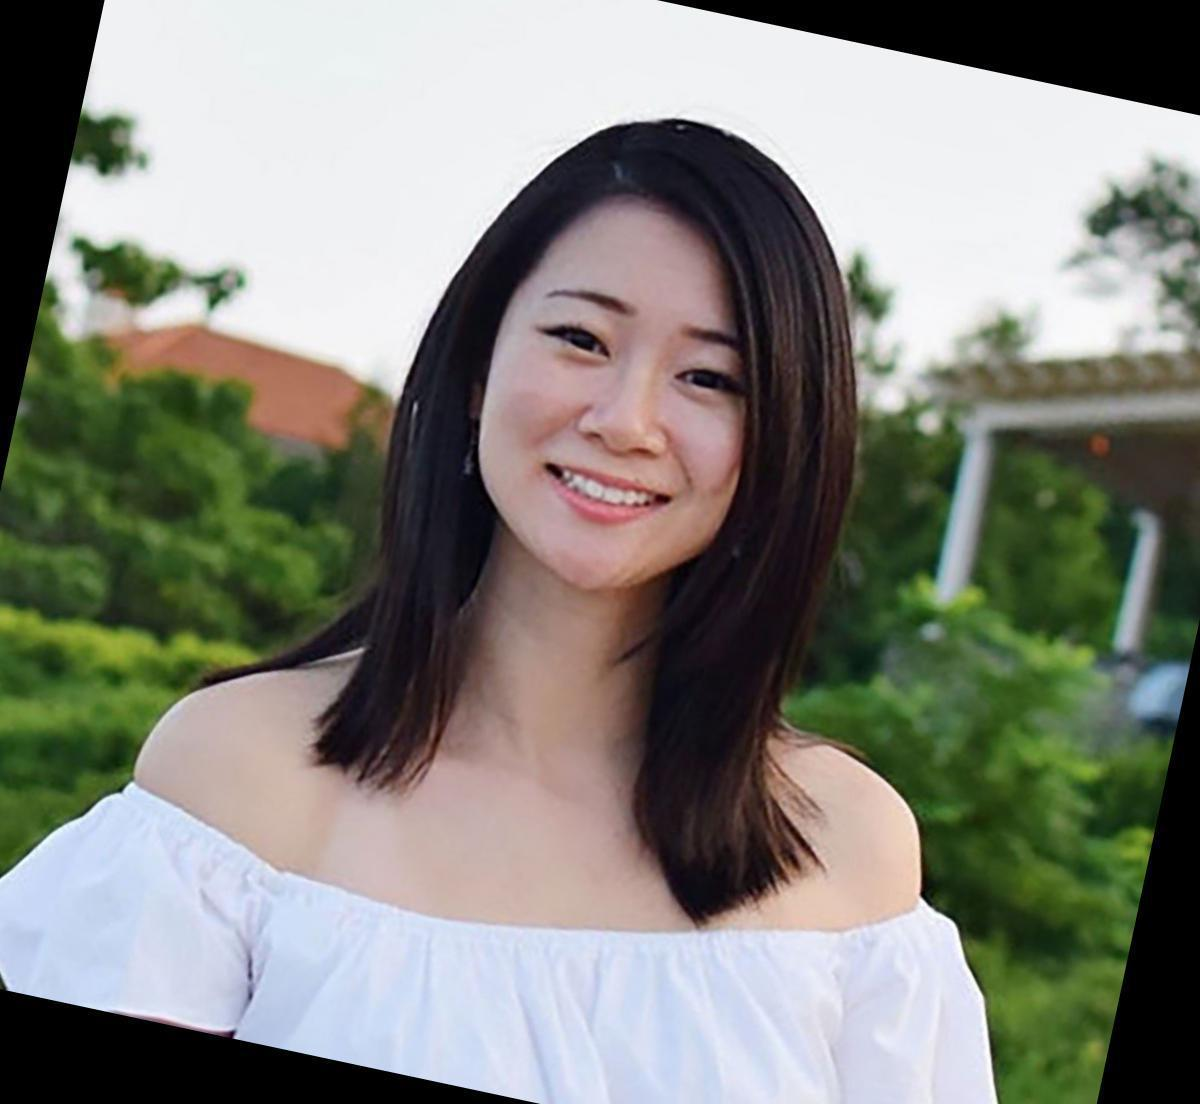Sober: (501, 218, 765, 561)
